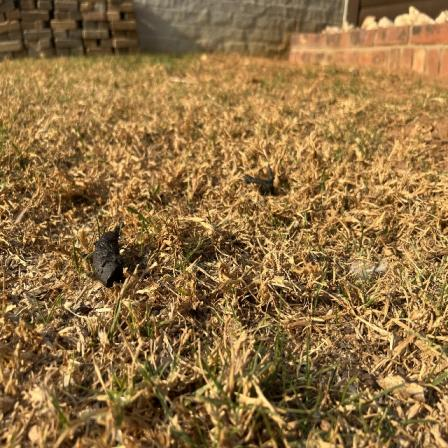dog-poop: (238, 159, 286, 207), (86, 223, 122, 286)
